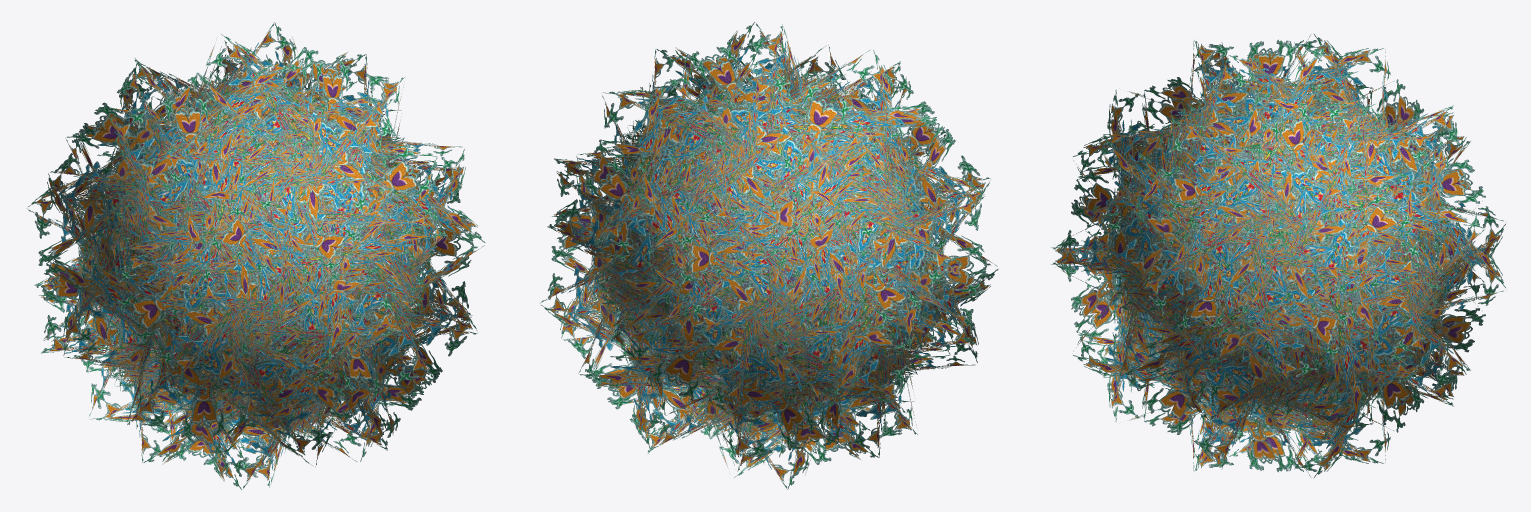
The model's file is 9GreatInvertedPentagonalHexecontahedron.gltf.
3 views of the same model, side by side, from view 1: azimuth 30°, elevation 25°; view 2: azimuth 150°, elevation 25°; view 3: azimuth 270°, elevation 25° (orthographic).
Parts seen in each view (by area): view 1: GreatInvertedPentagonalHexecontahedron8; view 2: GreatInvertedPentagonalHexecontahedron8; view 3: GreatInvertedPentagonalHexecontahedron8.
Part boxes in pixels (left/top/right/bottom): GreatInvertedPentagonalHexecontahedron8: left=27, top=22, right=485, bottom=489; GreatInvertedPentagonalHexecontahedron8: left=540, top=22, right=998, bottom=489; GreatInvertedPentagonalHexecontahedron8: left=1051, top=33, right=1505, bottom=478.
Size of the model in its own units: 1.13 by 1.13 by 1.13.
Materials: 1 (1 with a texture image).
